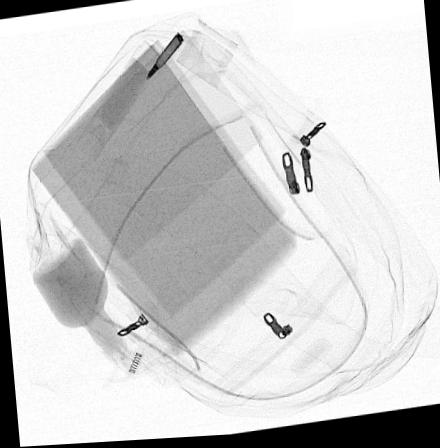Bullet: (143, 33, 183, 82)
